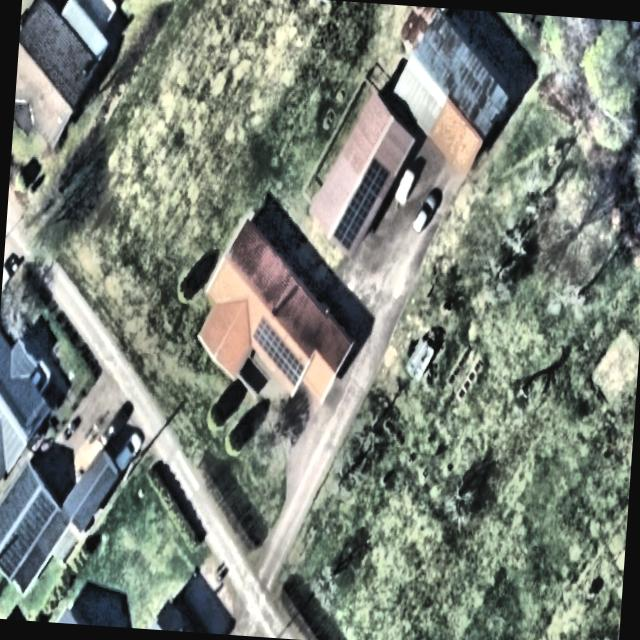roof_pv: (360, 154, 391, 230), (332, 178, 362, 251), (274, 332, 308, 391), (248, 308, 278, 370)
